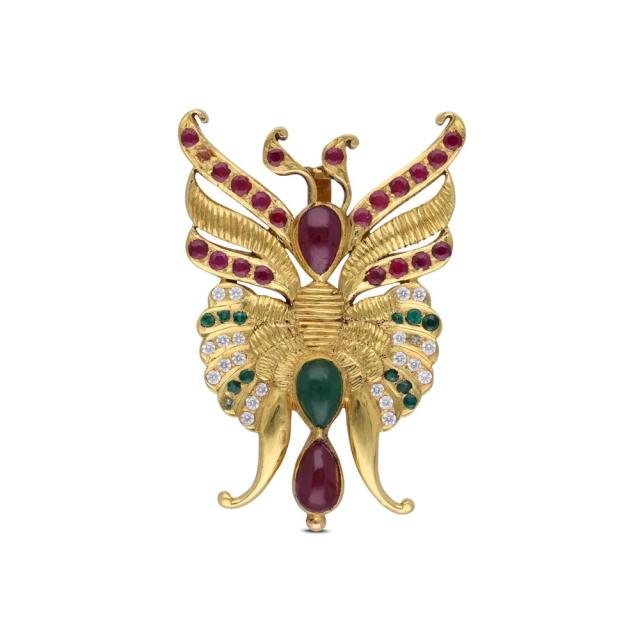missing gem: (194, 148, 213, 164), (221, 395, 235, 410), (410, 334, 421, 345)
